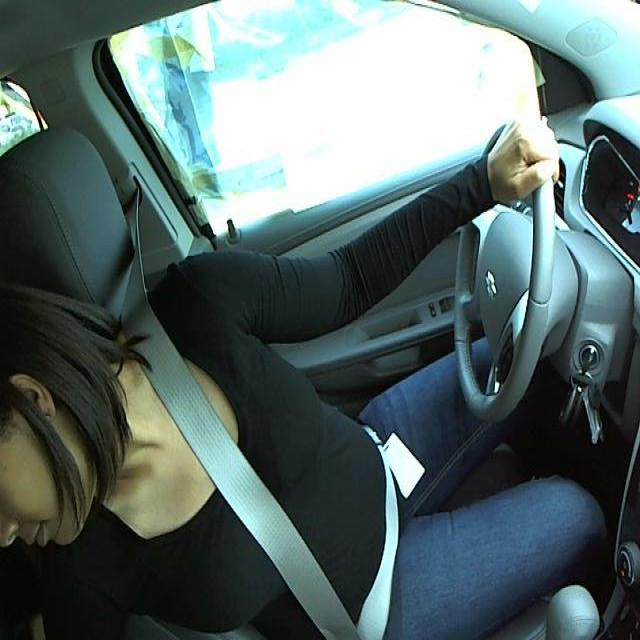seatbelt: (129, 344, 334, 629)
